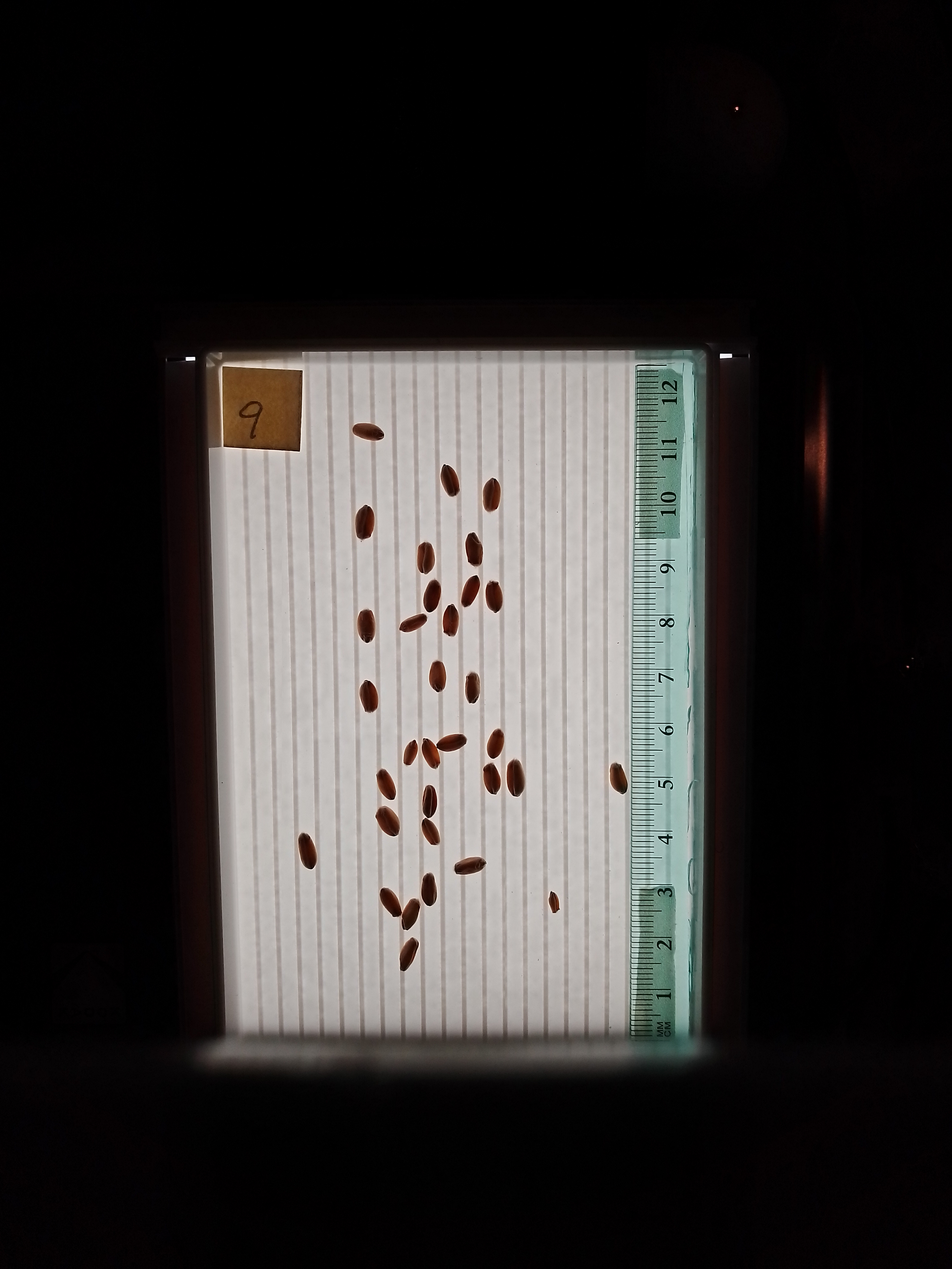seed mask: (506, 759, 525, 797), (376, 807, 400, 836), (298, 833, 317, 869), (355, 506, 375, 540), (357, 609, 376, 643), (353, 422, 384, 442), (483, 478, 501, 512), (380, 888, 401, 917), (360, 681, 379, 713), (400, 938, 418, 971), (609, 763, 628, 794), (441, 466, 460, 496), (461, 576, 479, 607), (485, 582, 503, 613), (402, 899, 420, 930), (454, 857, 485, 875), (377, 770, 396, 799), (417, 542, 434, 574), (483, 764, 501, 794), (421, 873, 437, 906), (466, 534, 483, 565), (424, 581, 441, 612), (422, 740, 440, 768), (438, 734, 466, 752), (422, 786, 438, 817), (400, 614, 426, 633), (487, 729, 504, 758), (443, 605, 459, 635), (430, 661, 446, 691), (422, 819, 439, 845), (466, 674, 479, 703), (403, 741, 417, 765)
